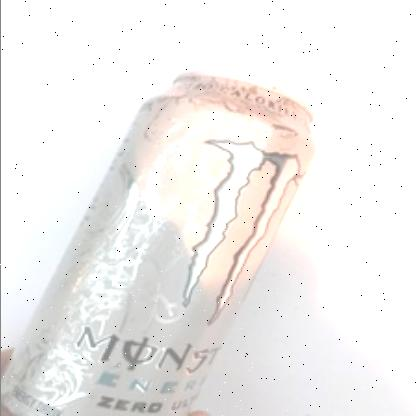Can: (0, 70, 320, 416)
